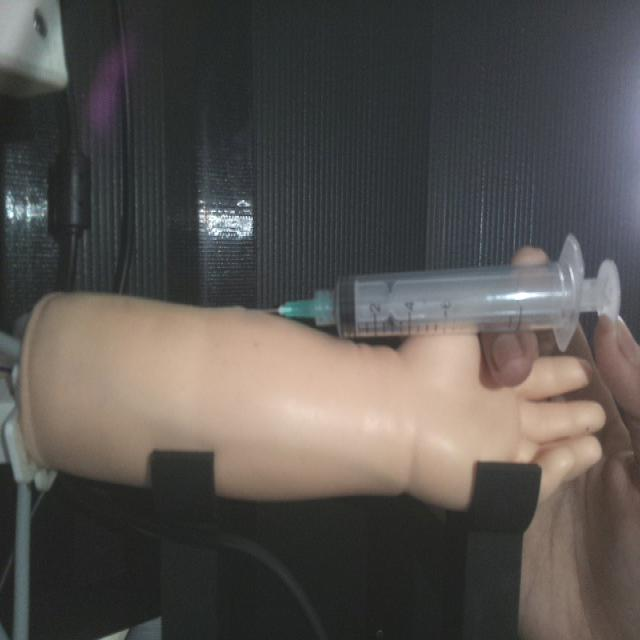Below 15 degrees: (265, 231, 622, 349)
